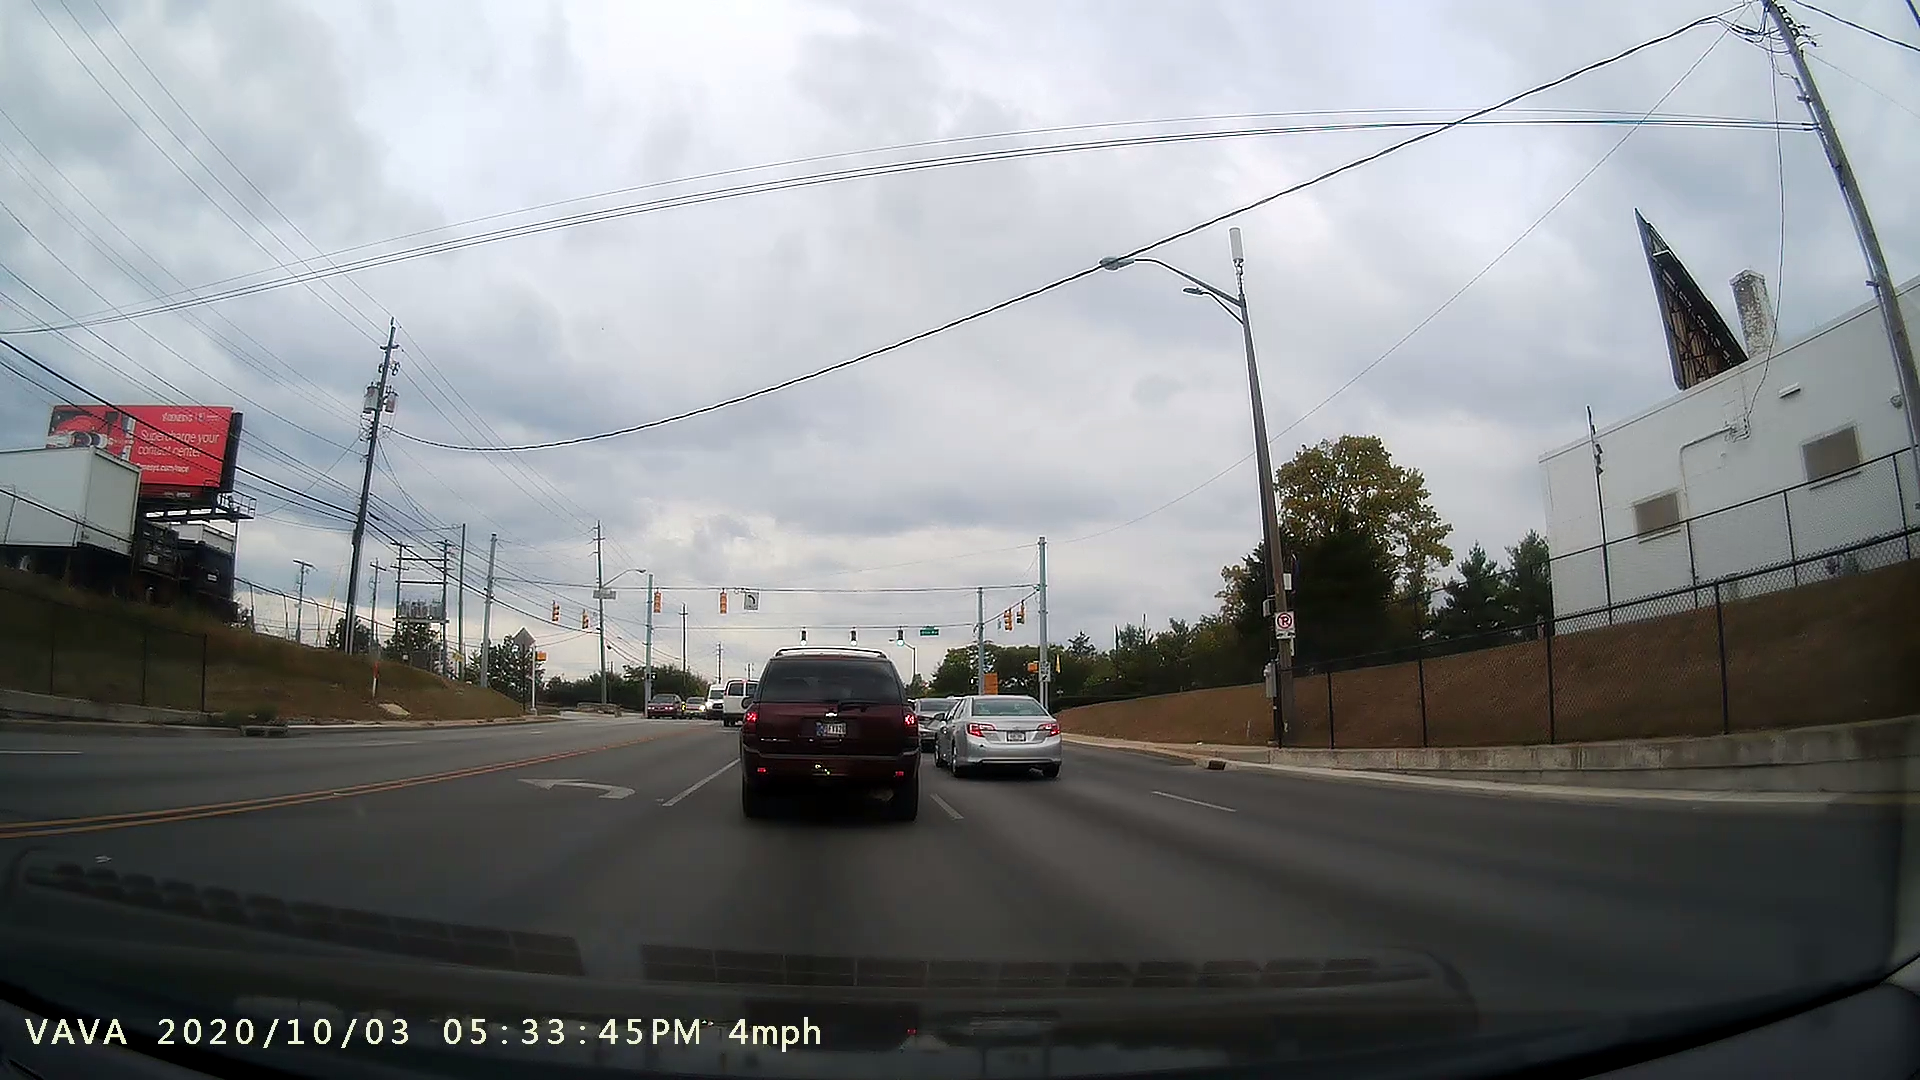left_turn: (512, 762, 641, 808)
